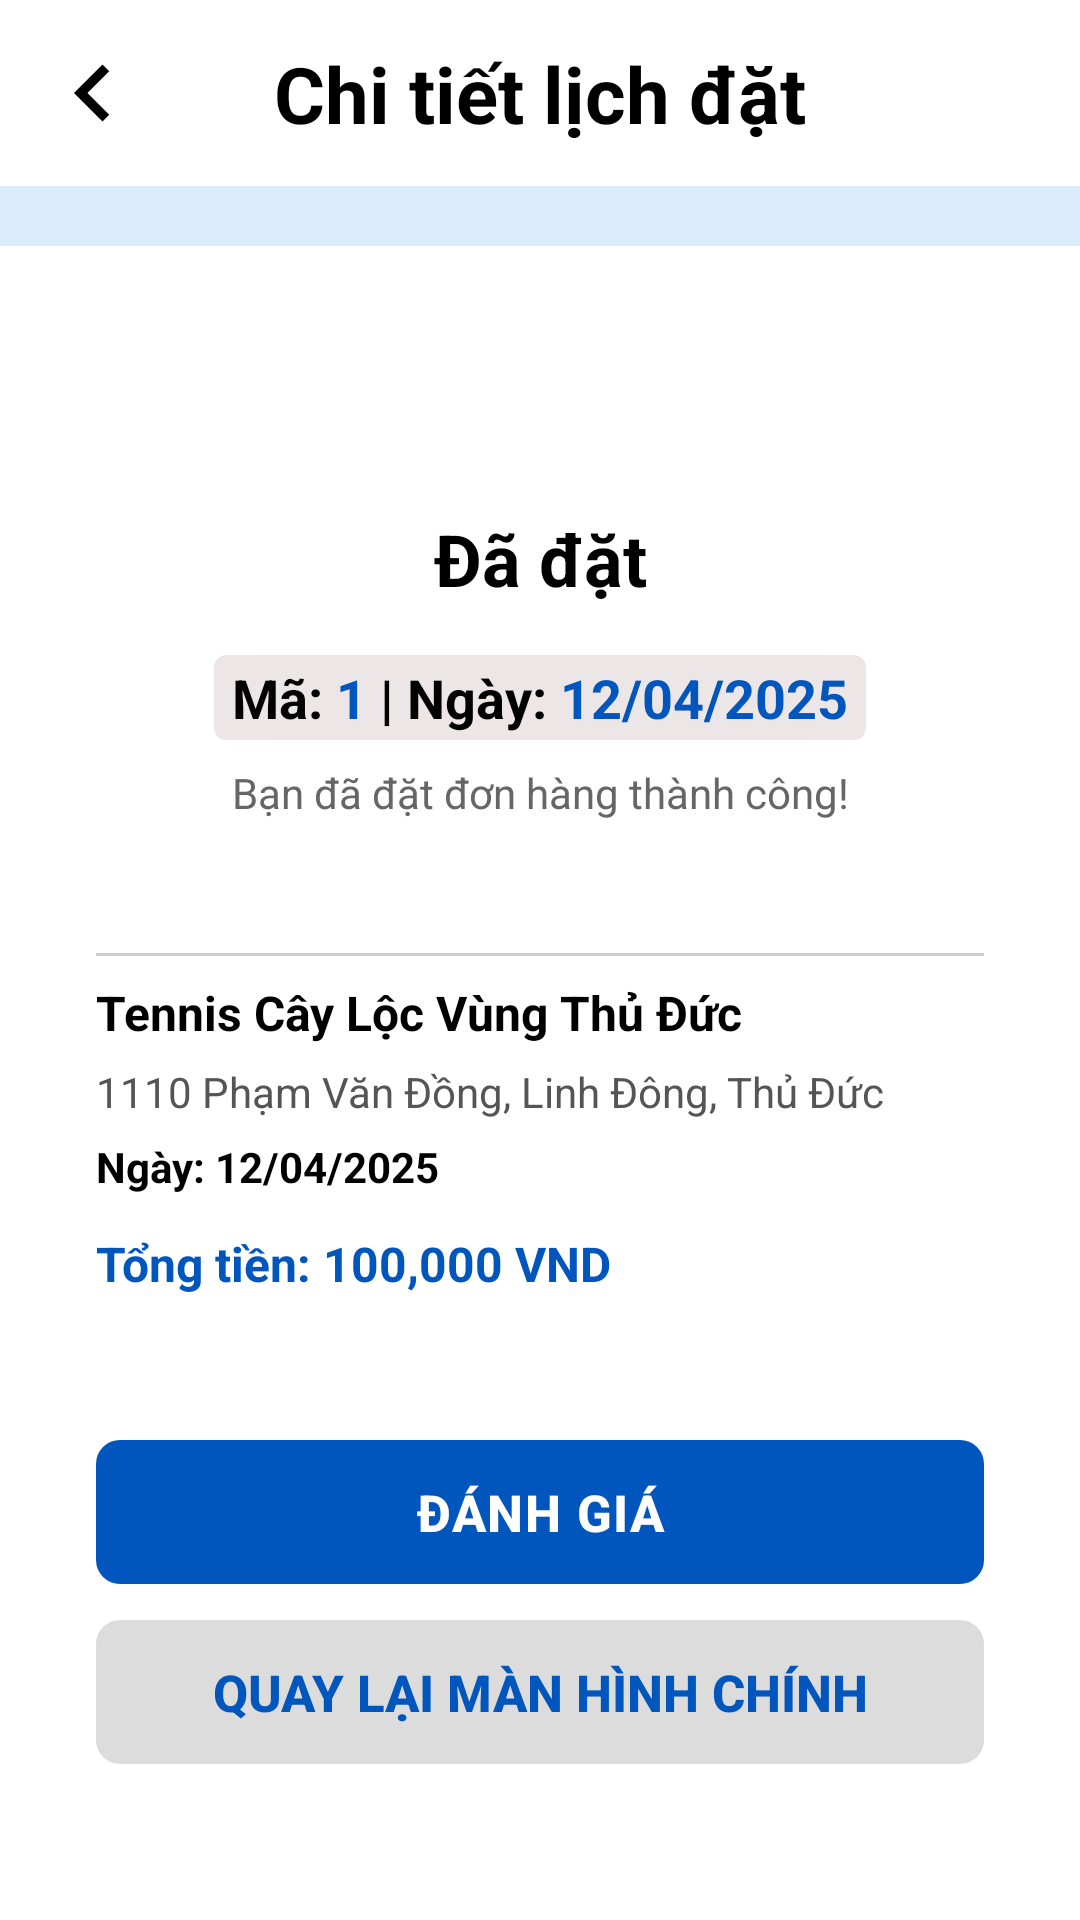

Where to tap for icons on this 1080px×1920px app screen, as point (x, y):
back: point (91, 93)
